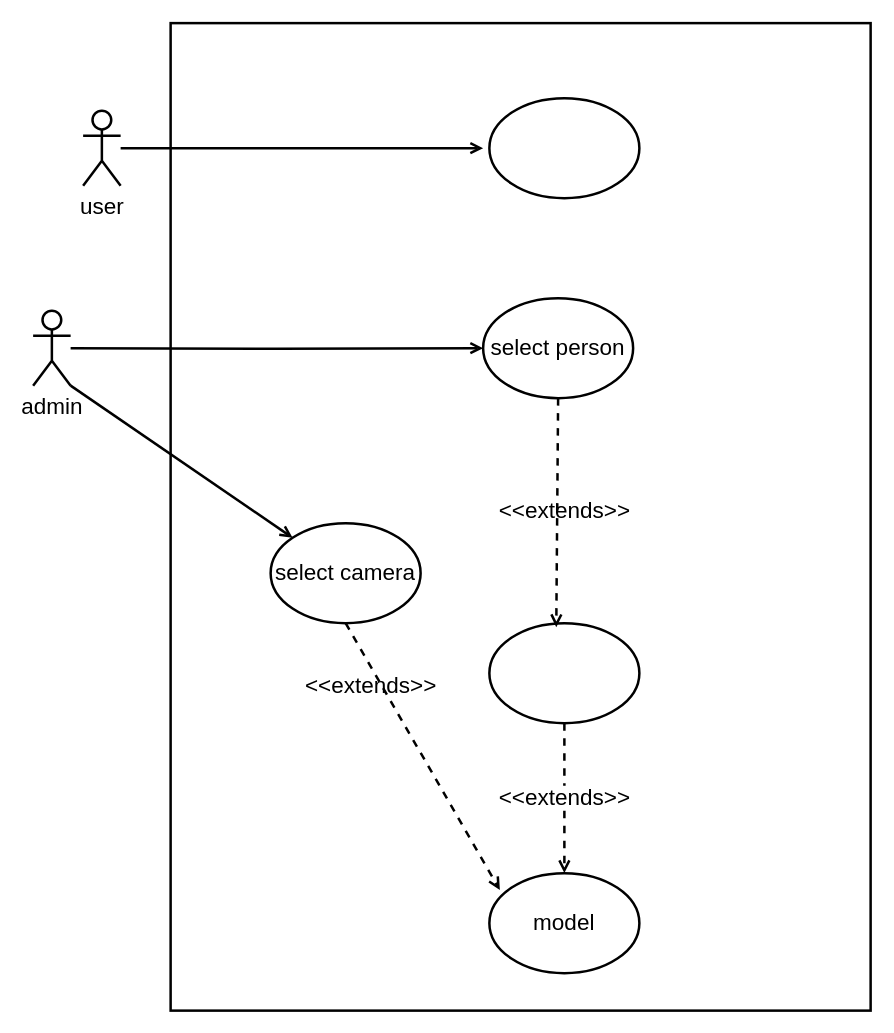
Image size: 894x1033. Some labels were removed from this diagram. The centre of each missing label's shape, as x and y in pixels:
fetch frames: (564,672)
login: (564,147)
